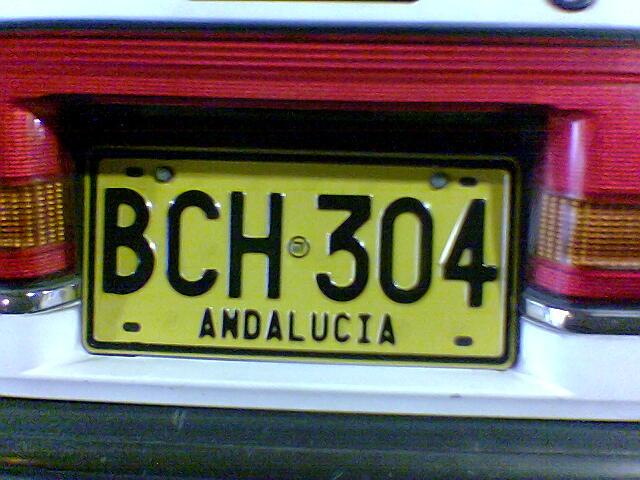placas: (79, 138, 526, 375)
